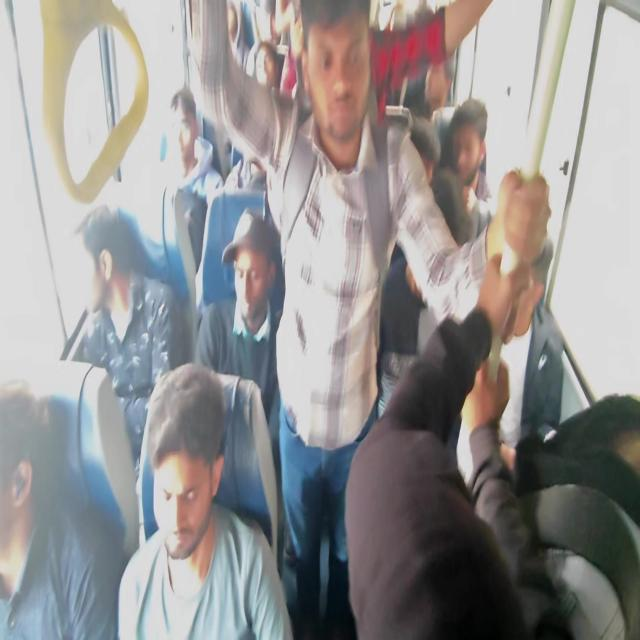person: (509, 404, 640, 592), (142, 422, 252, 640), (0, 388, 69, 605), (302, 10, 382, 170), (210, 230, 294, 339), (72, 216, 132, 305), (451, 109, 498, 194), (166, 97, 213, 180), (391, 132, 437, 208), (188, 0, 241, 59), (256, 40, 284, 106)
